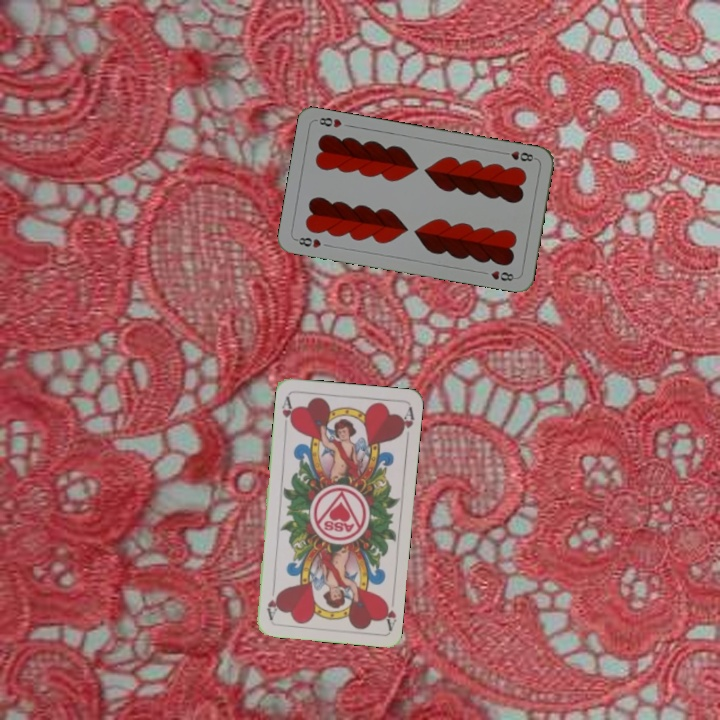H8: (498, 147, 538, 164), (292, 233, 324, 251)
HA: (379, 591, 399, 632), (278, 392, 297, 431)
